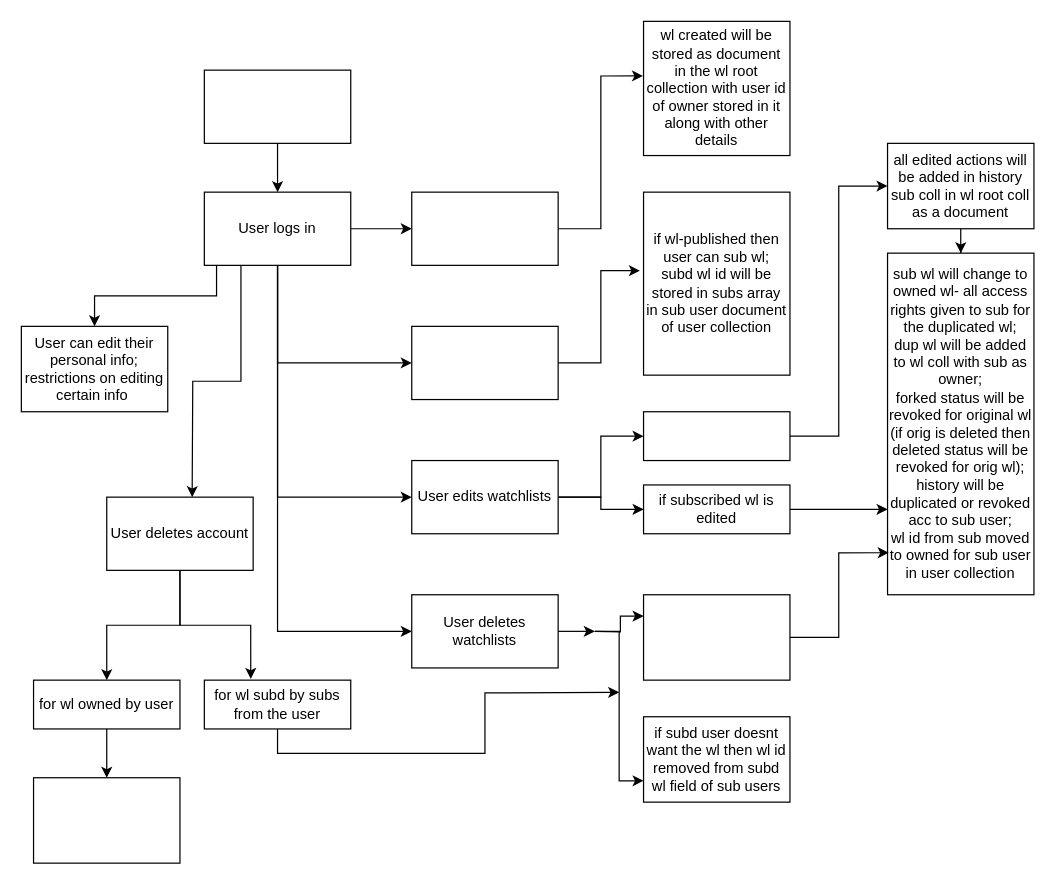
The diagram is 1055 pixels wide and 885 high, and some of its shapes have lost their labels. The centre of each missing label's shape, as x and y in pixels:
"if owned wl is edited" belongs at point (716, 436).
"if the sub asks to keep the subd wl" belongs at point (716, 637).
"owned wl documents and user document of user will be deleted" belongs at point (106, 820).
"User creates account" belongs at point (277, 106).
"User creates watchlists" belongs at point (484, 228).
"User subscribes to other watchlists" belongs at point (484, 362).
